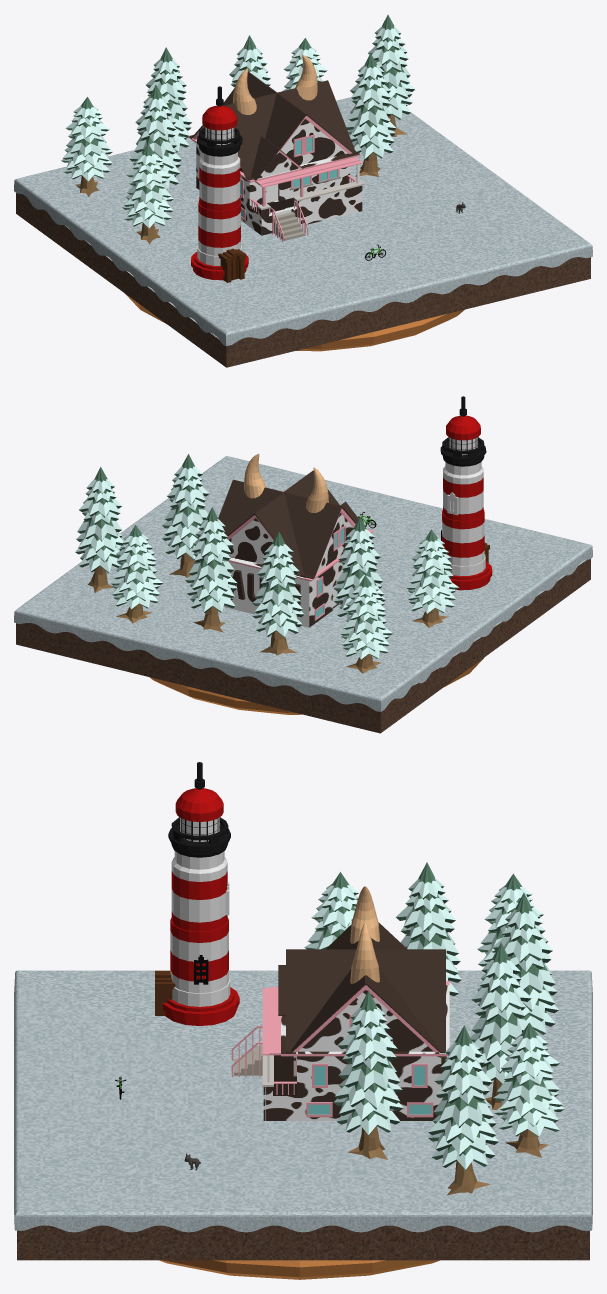
3 views of the same model, one above another, from view 1: azimuth 30°, elevation 25°; view 2: azimuth 150°, elevation 25°; view 3: azimuth 270°, elevation 25° (orthographic). The views are drawn at different scales.
Visible parts, largest first — view 1: Cube.003, Cube.1242, OBJRANDOM_LIGHTHOUSE, UNDERGROUND_PIZZA; view 2: Cube.003, Cube.1242, OBJRANDOM_LIGHTHOUSE, UNDERGROUND_PIZZA; view 3: Cube.003, Cube.1242, OBJRANDOM_LIGHTHOUSE, UNDERGROUND_PIZZA.
Boxes of the visible parts, x1,y1,x2,y2 form: Cube.003: (14,14,592,367); Cube.1242: (188,54,364,241); OBJRANDOM_LIGHTHOUSE: (191,86,248,282); UNDERGROUND_PIZZA: (124,293,464,351); Cube.003: (14,454,592,733); Cube.1242: (218,453,376,627); OBJRANDOM_LIGHTHOUSE: (440,396,492,590); UNDERGROUND_PIZZA: (150,657,484,714); Cube.003: (14,862,592,1260); Cube.1242: (231,886,449,1120); OBJRANDOM_LIGHTHOUSE: (155,762,239,1025); UNDERGROUND_PIZZA: (159,1260,439,1279).
Bounding box in the file's own units: 4040 × 2562 × 4040.
Materials: 42 (3 with a texture image).
